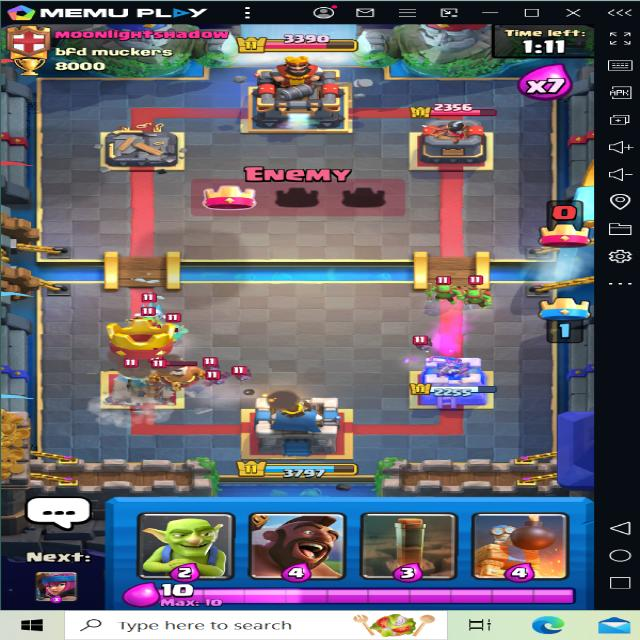bats: (400, 337, 442, 358), (229, 362, 267, 383)
ice-spirit: (127, 295, 168, 324)
monk: (144, 358, 210, 396)
spear-goblin: (147, 315, 189, 346), (428, 277, 464, 311), (458, 282, 493, 314)
